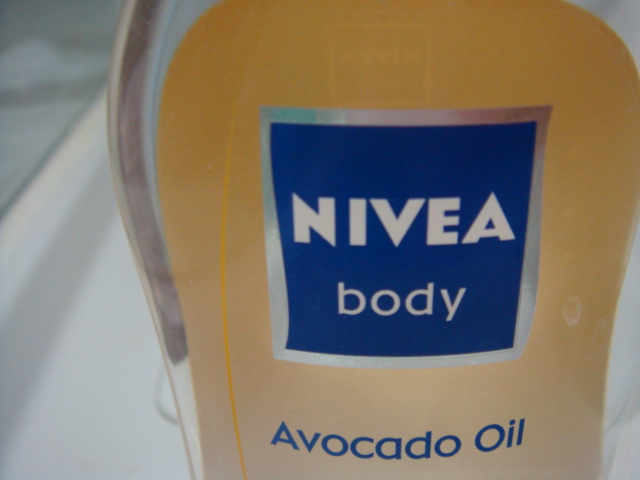sign_readable: (284, 178, 541, 327), (268, 415, 533, 464)
